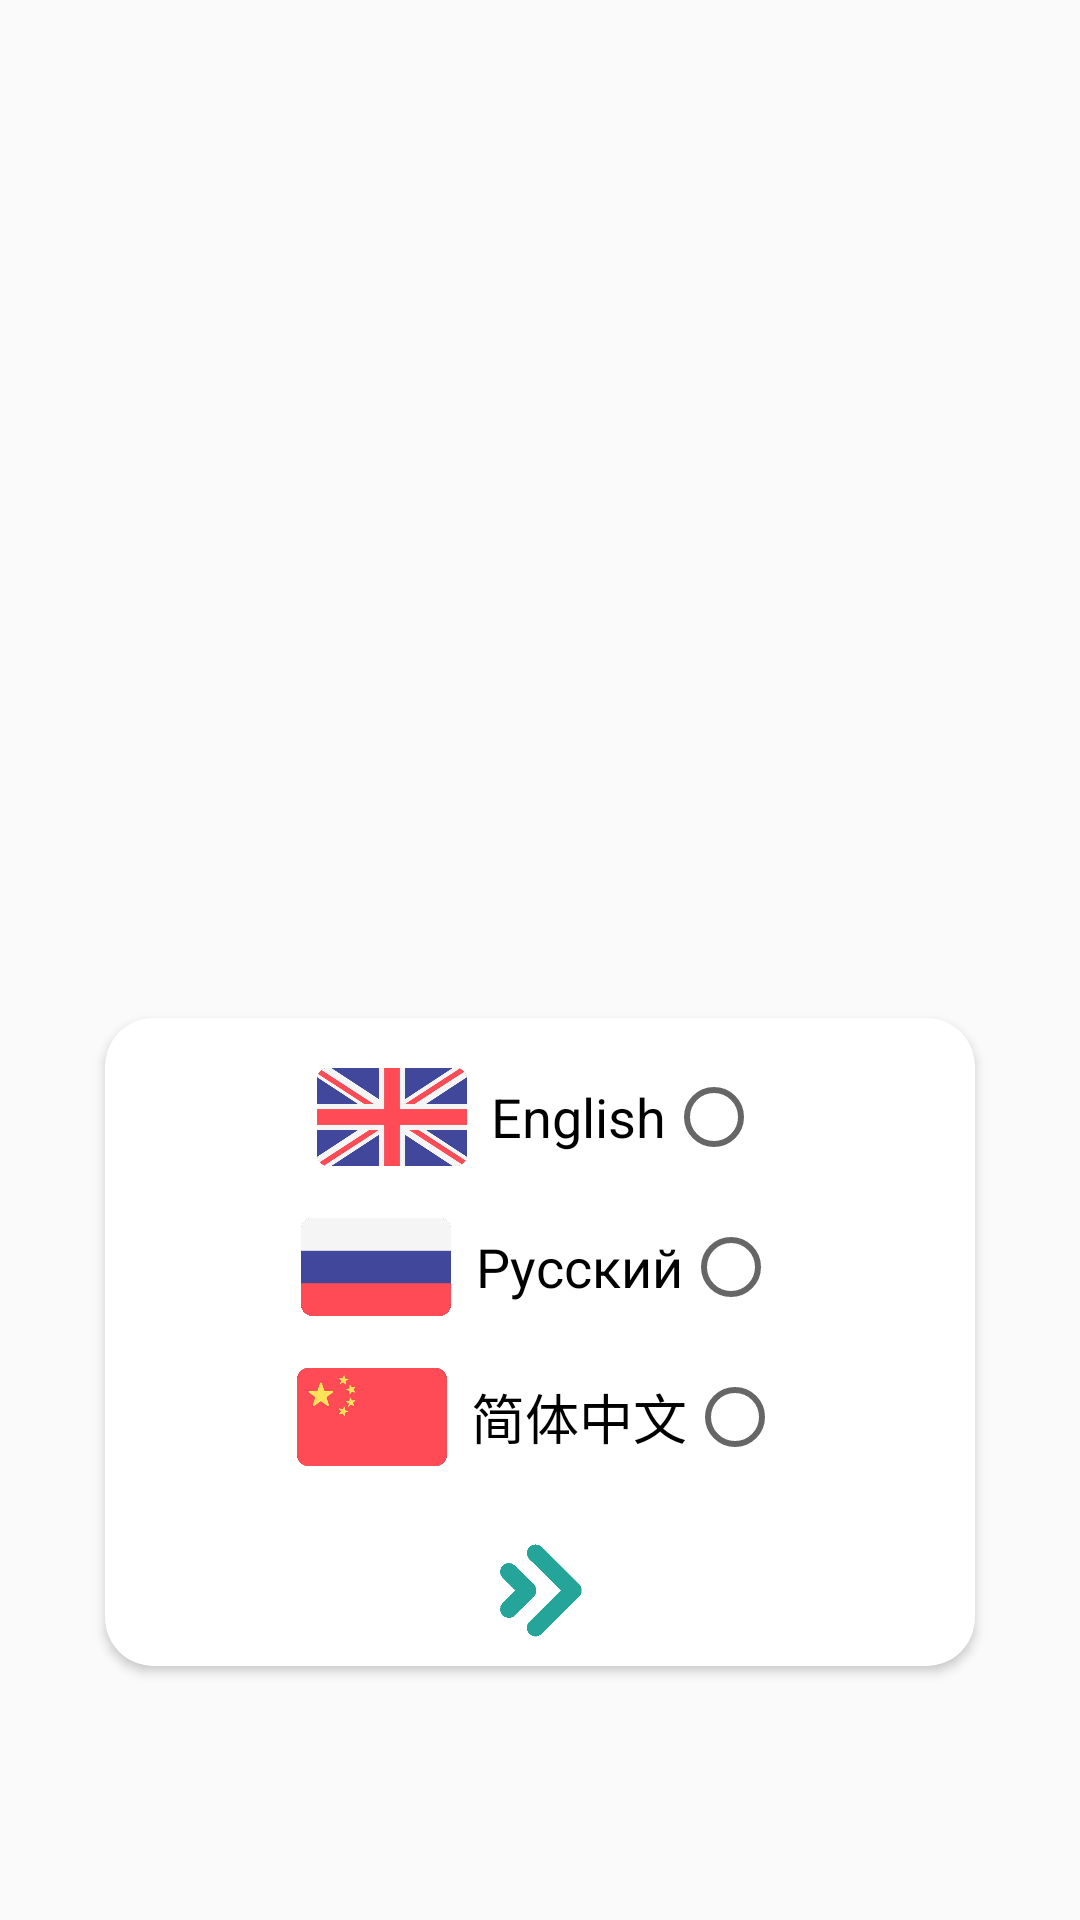

Icon click points for this 1080 x 1920 phone screenshot, format (x,y):
right arrow: (541,1590)
